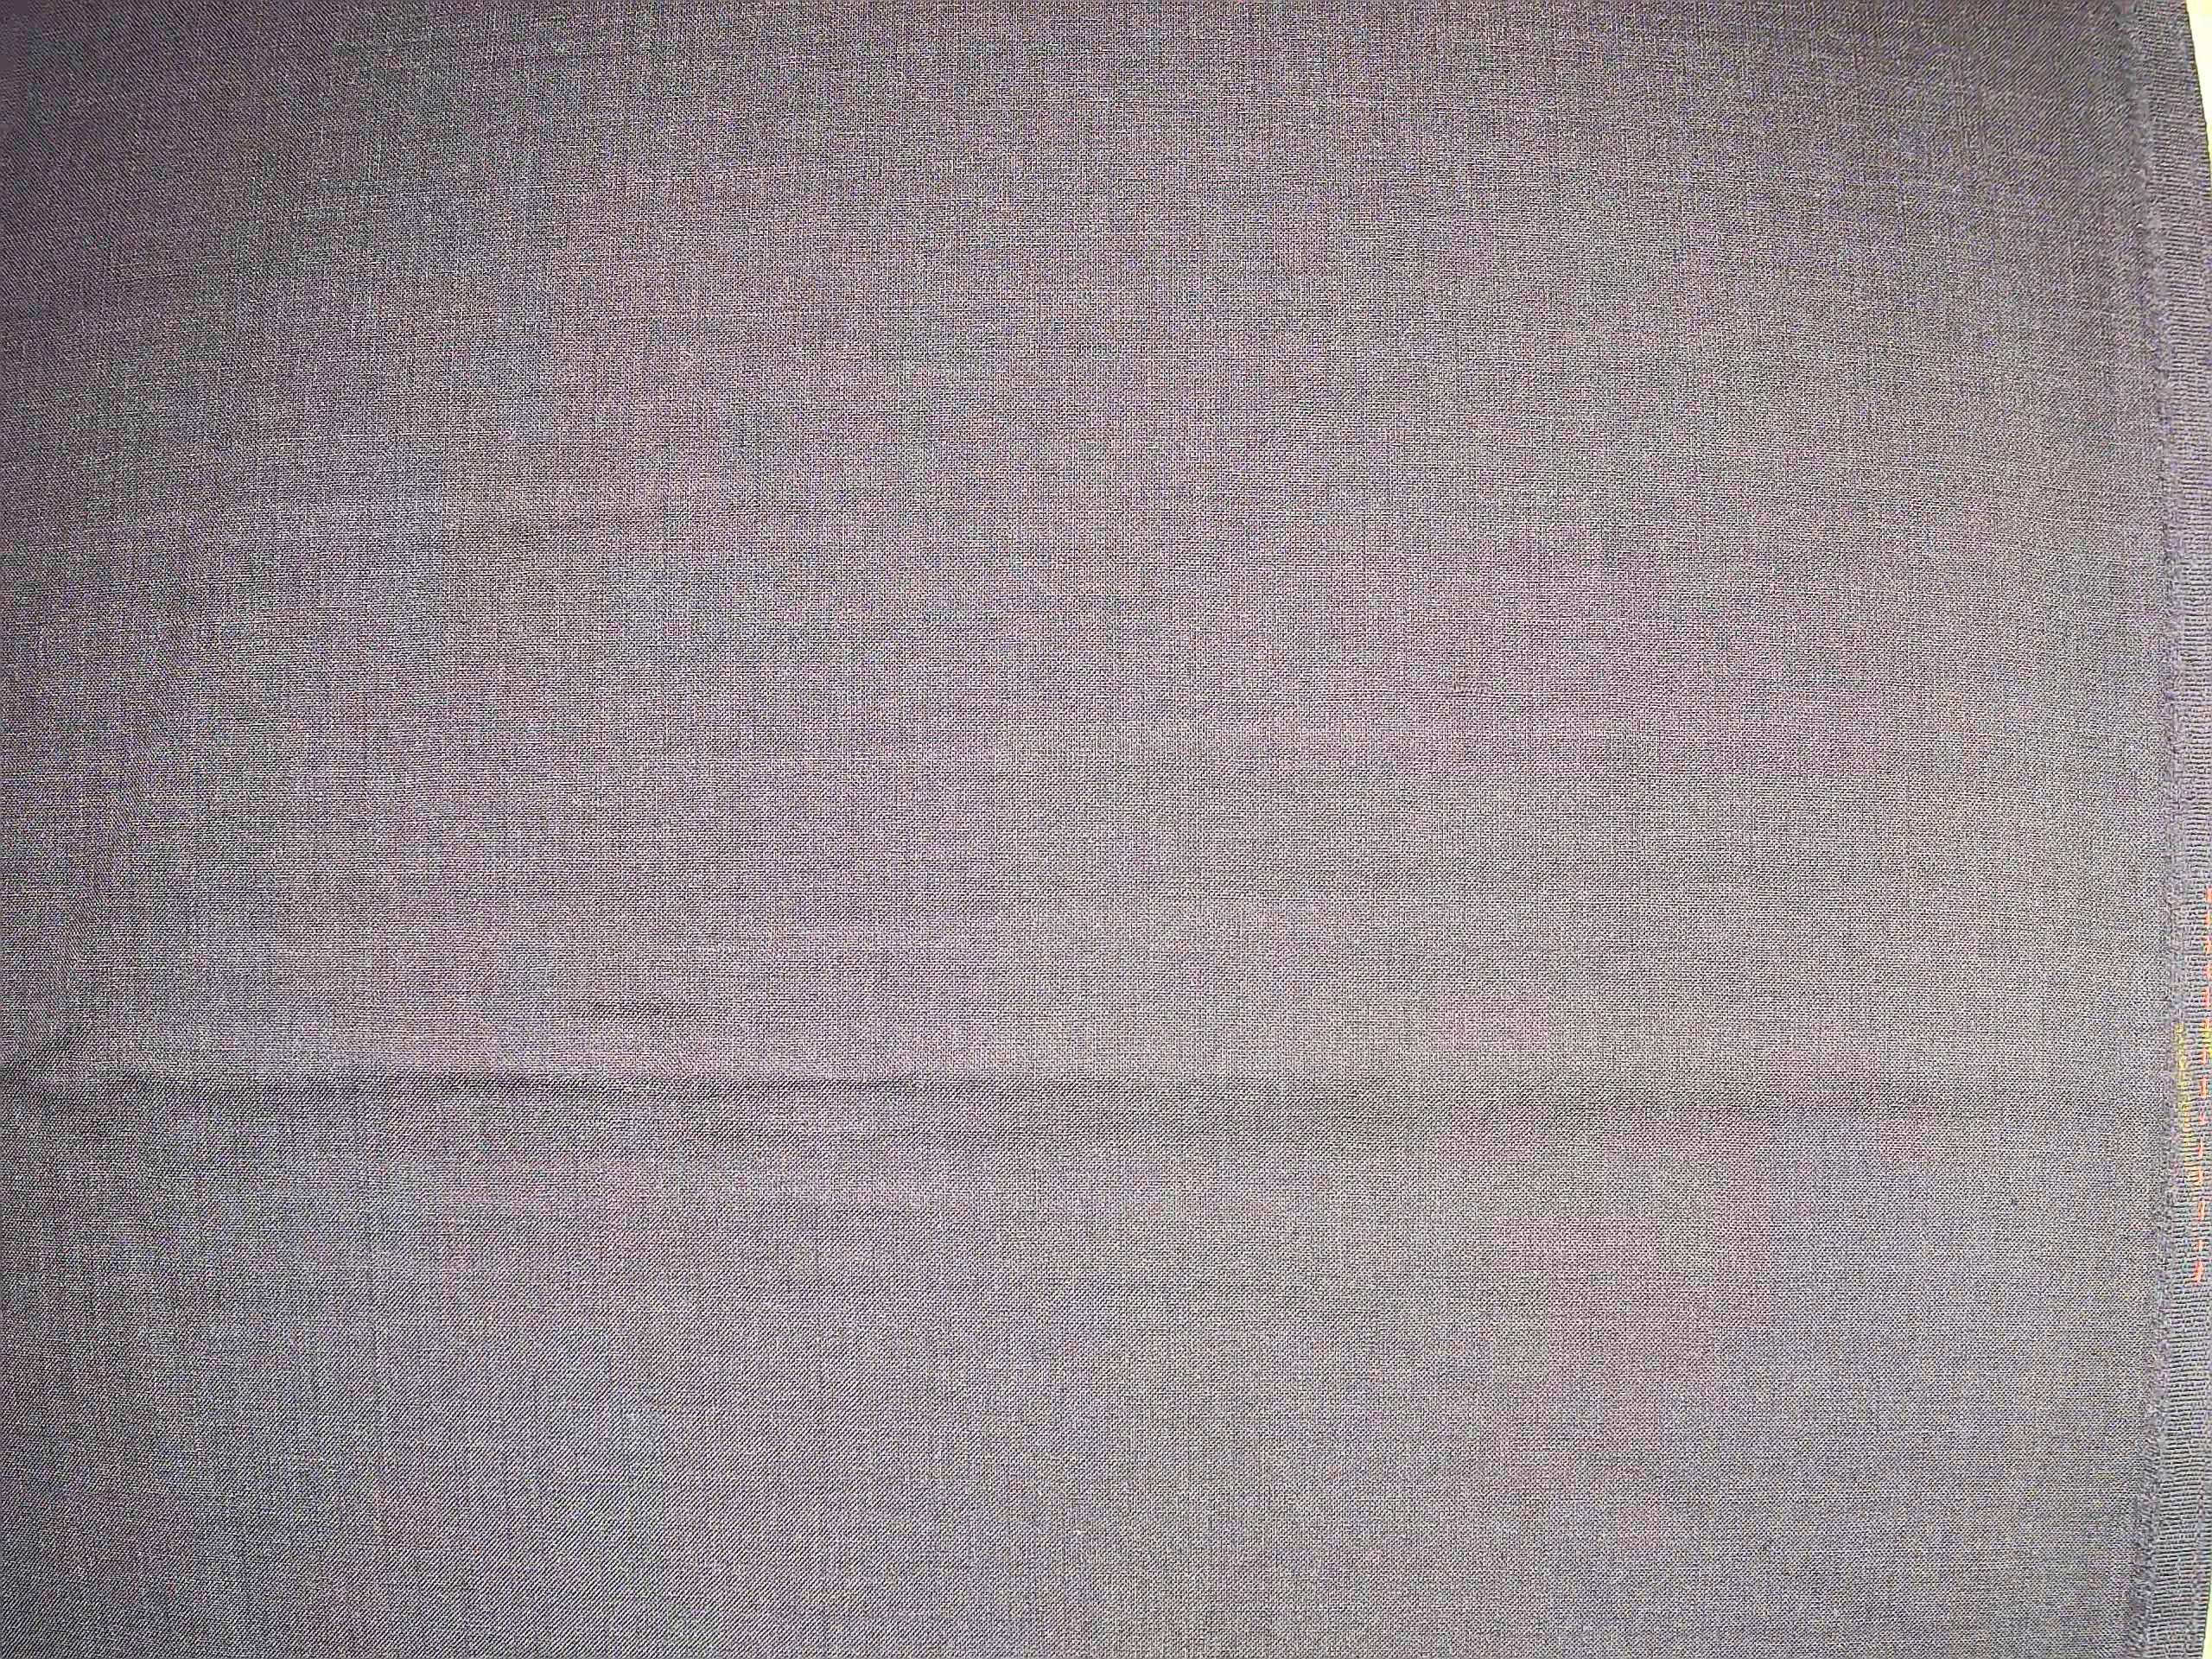others: (549, 284, 998, 329)
